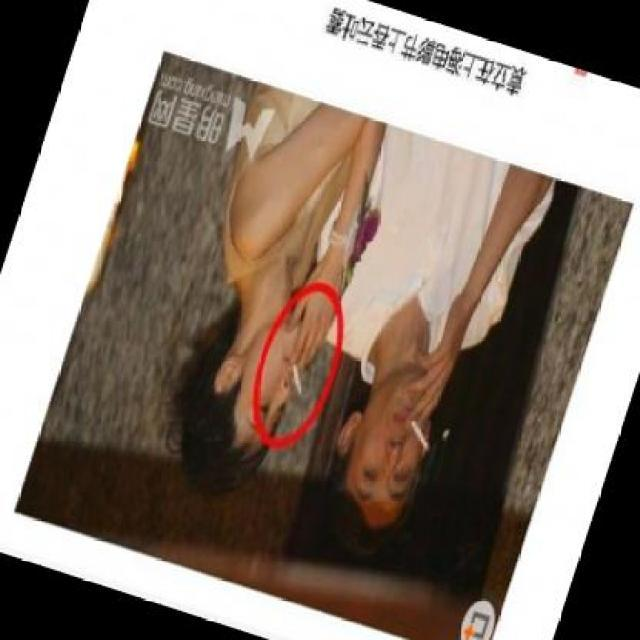smoke: (400, 412, 436, 450), (280, 358, 309, 398)
